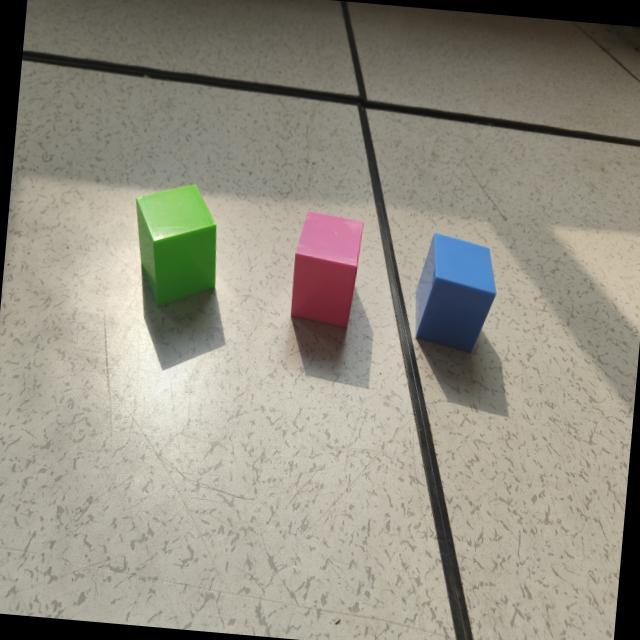blue: (412, 233, 497, 354)
green: (134, 185, 217, 310)
pink: (288, 213, 363, 331)
